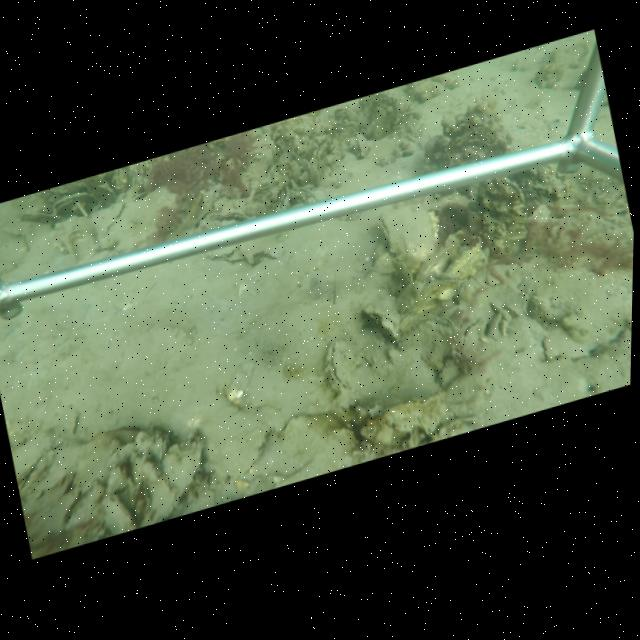Oyster-Closed: (143, 433, 205, 524), (375, 201, 440, 266), (322, 339, 359, 396), (364, 307, 403, 349), (51, 190, 98, 218), (457, 317, 483, 364), (150, 435, 168, 462), (89, 182, 116, 200), (353, 131, 369, 158), (309, 163, 322, 187), (301, 157, 311, 171)
Oyster-Indeterminate: (87, 202, 126, 241)
